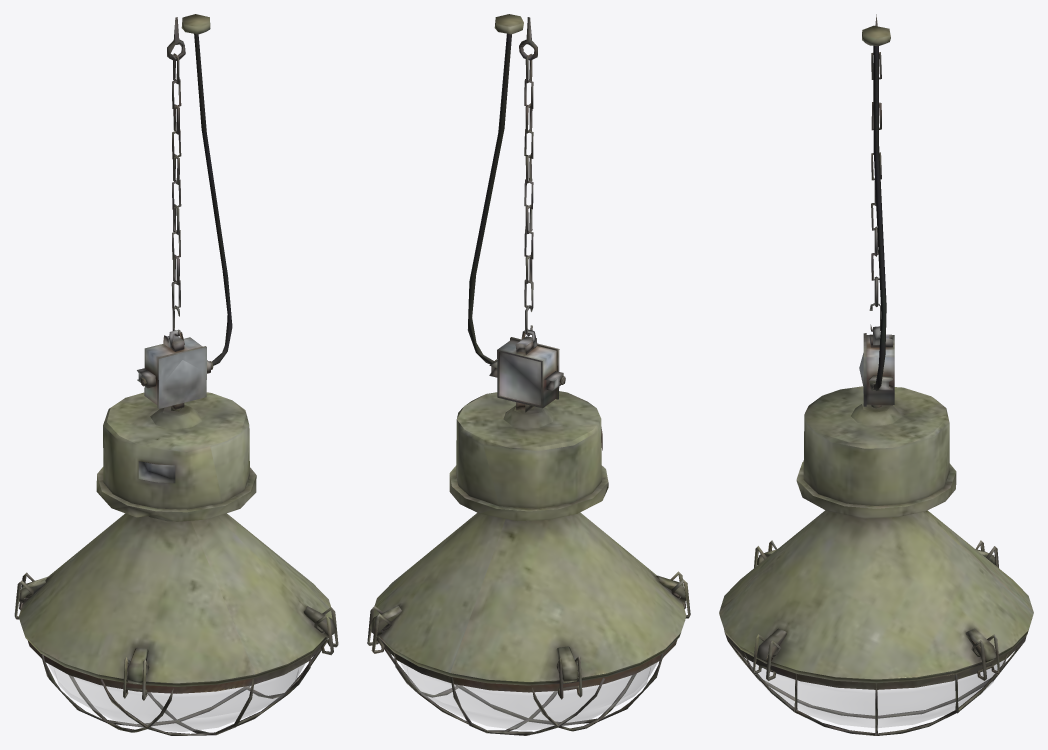
File: hlamp.glb
3 views of the same model, side by side, from view 1: azimuth 30°, elevation 25°; view 2: azimuth 150°, elevation 25°; view 3: azimuth 270°, elevation 25° (orthographic).
Visible parts, largest first — view 1: hanging_industrial_lamp; view 2: hanging_industrial_lamp; view 3: hanging_industrial_lamp.
Boxes of the visible parts, box(x1,y1,x2,y2) form: hanging_industrial_lamp: box(14, 14, 338, 735); hanging_industrial_lamp: box(367, 14, 690, 735); hanging_industrial_lamp: box(719, 14, 1033, 735).
Size of the model in its own units: 0.5496 by 1.36 by 0.5496.
2 materials, 1 textured.
